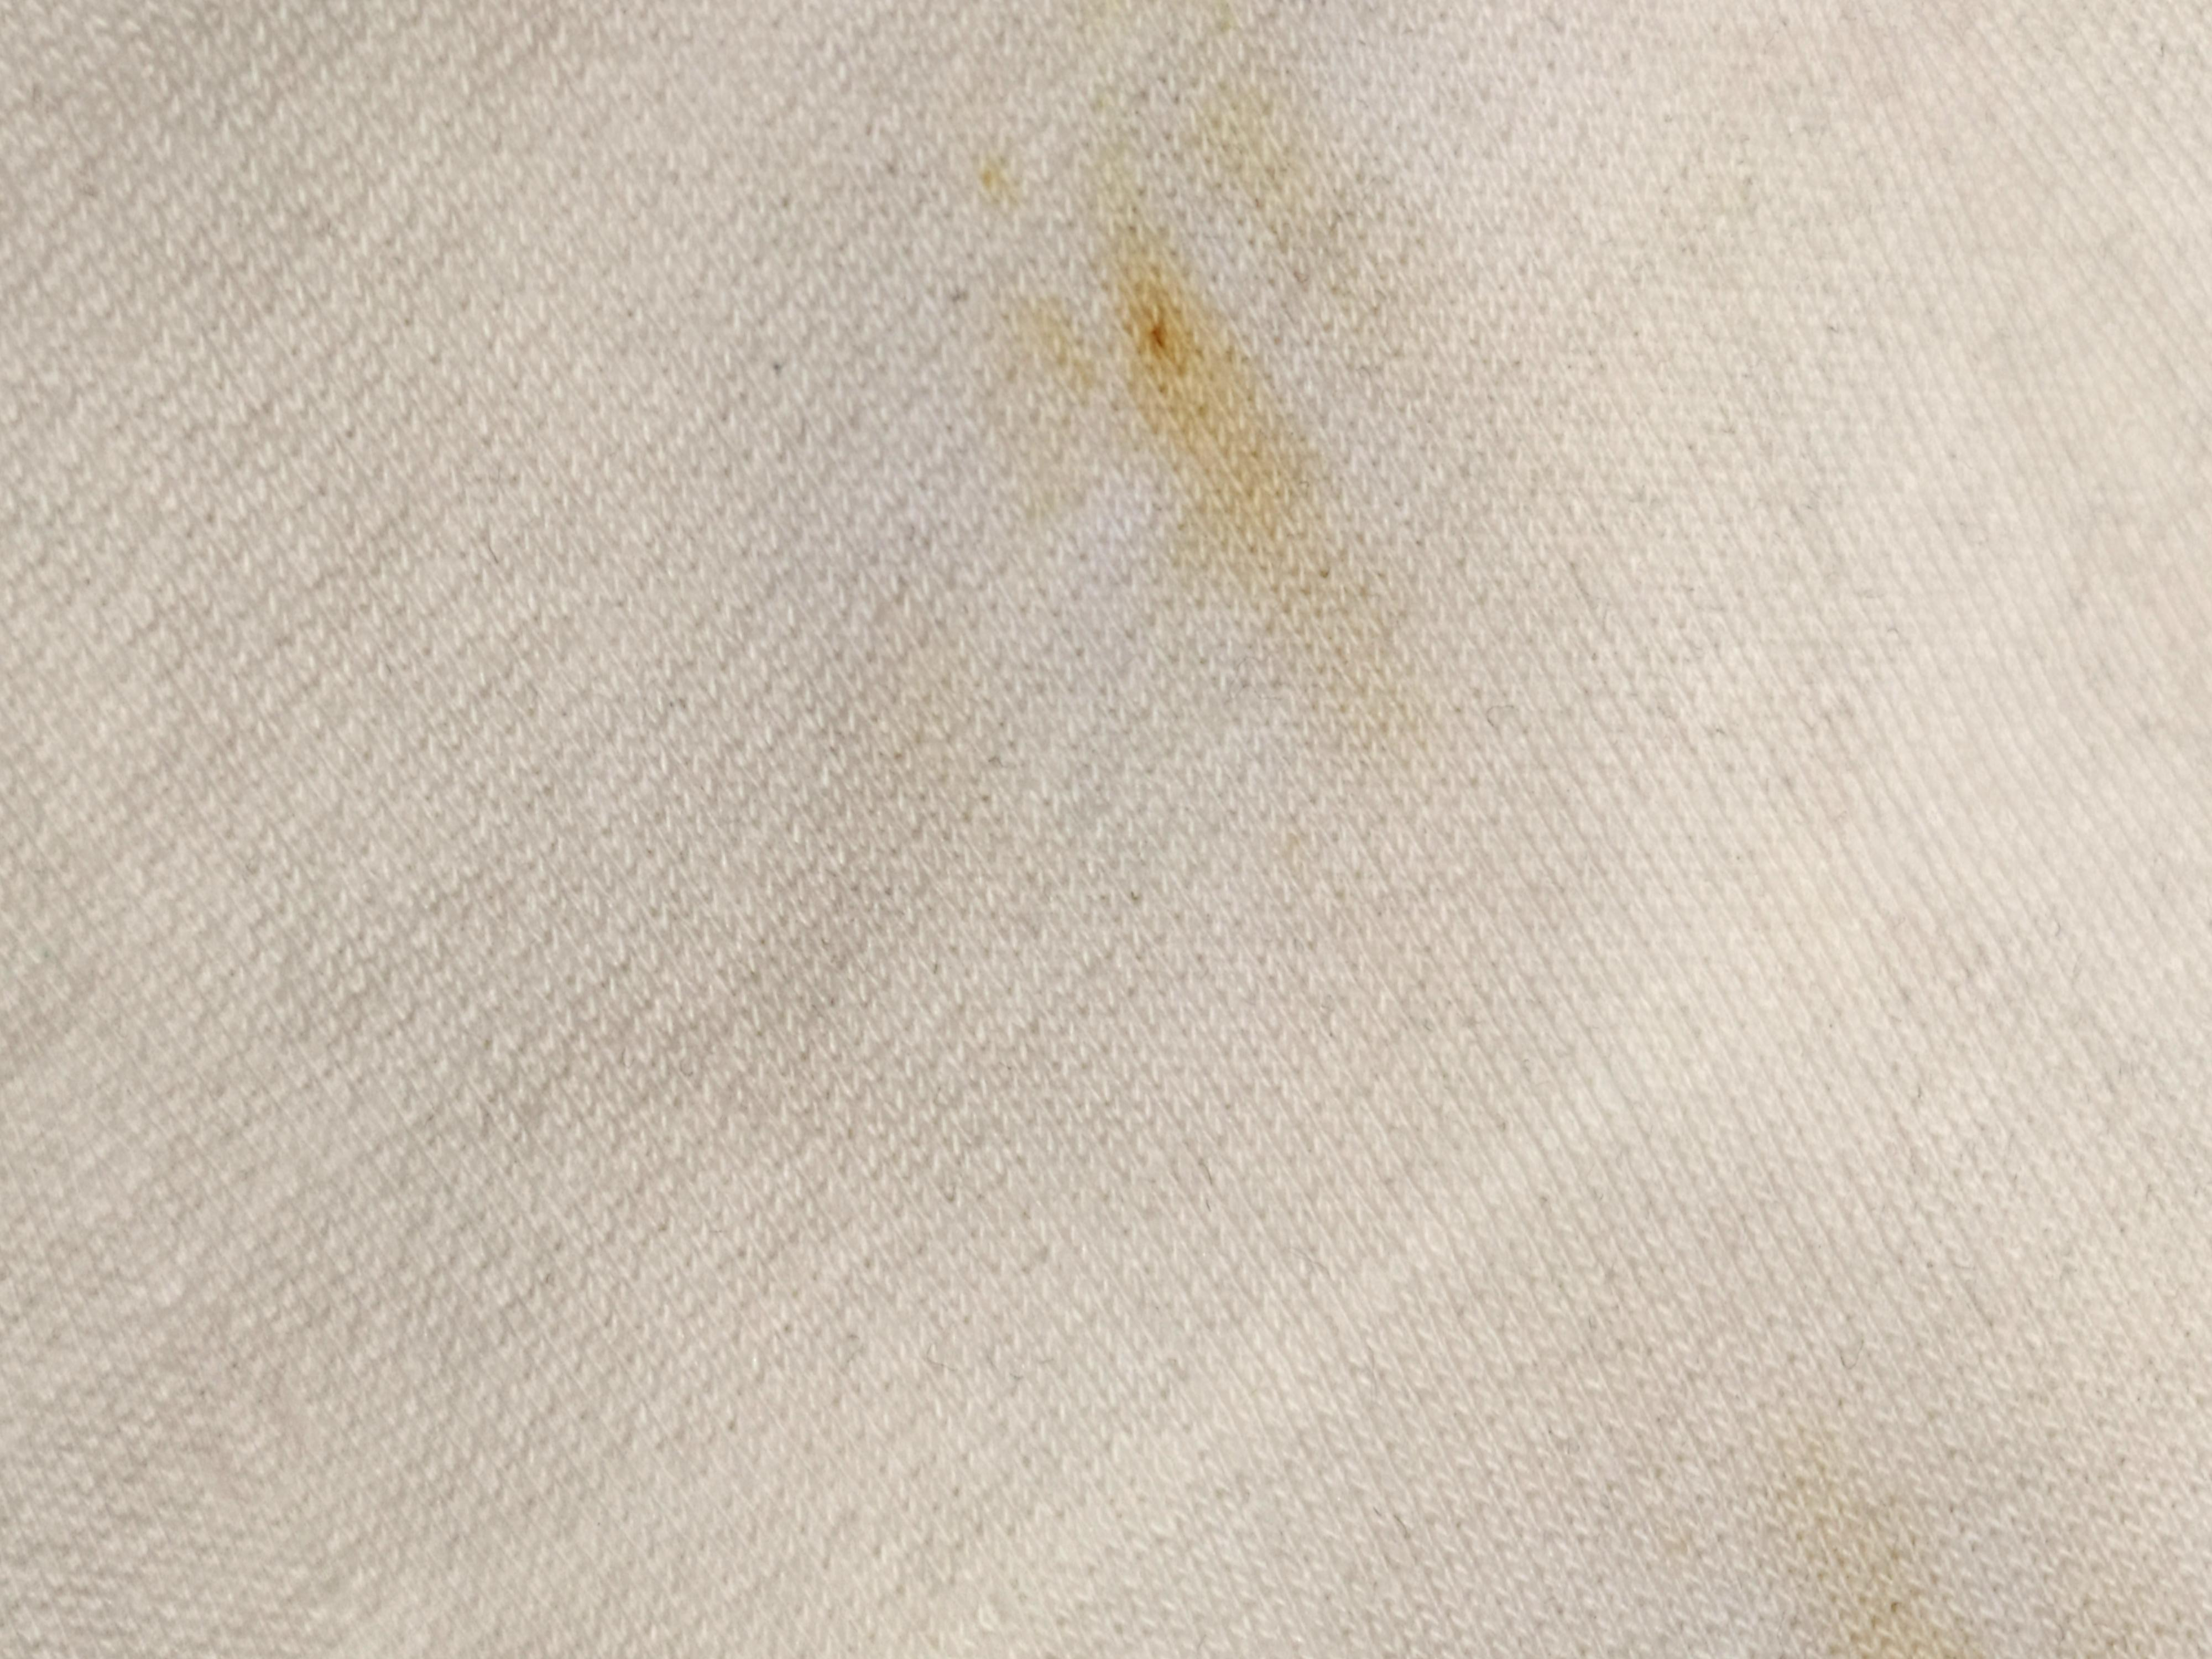stain: (1087, 209, 1280, 579)
